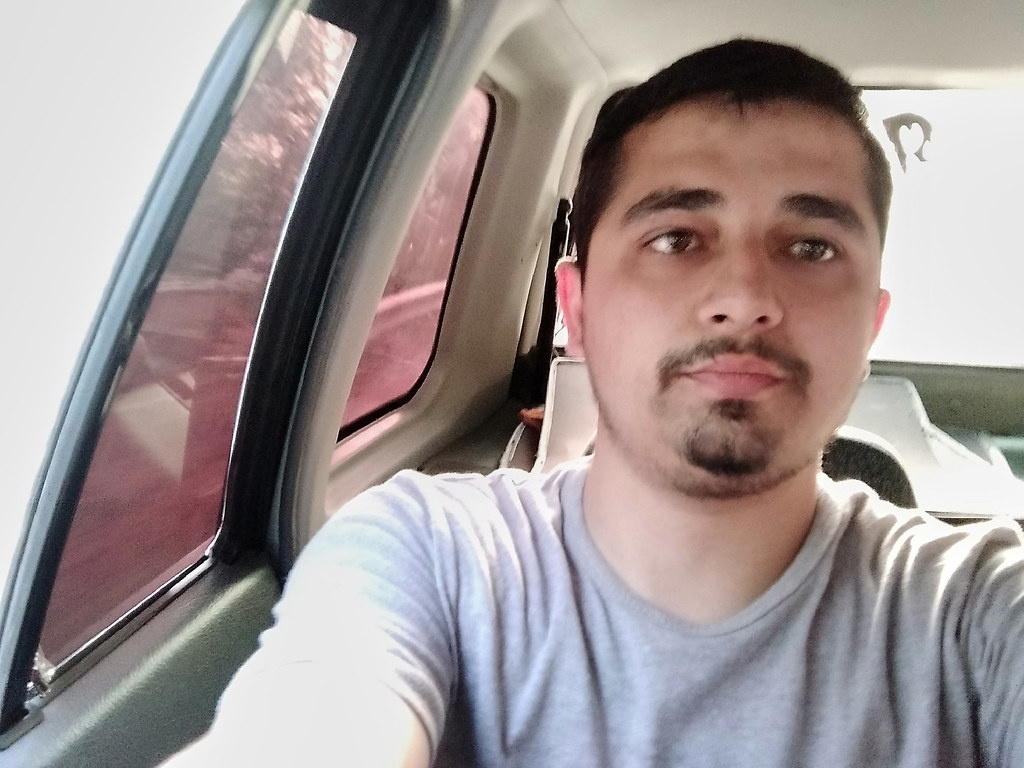without_mask: (579, 88, 885, 488)
